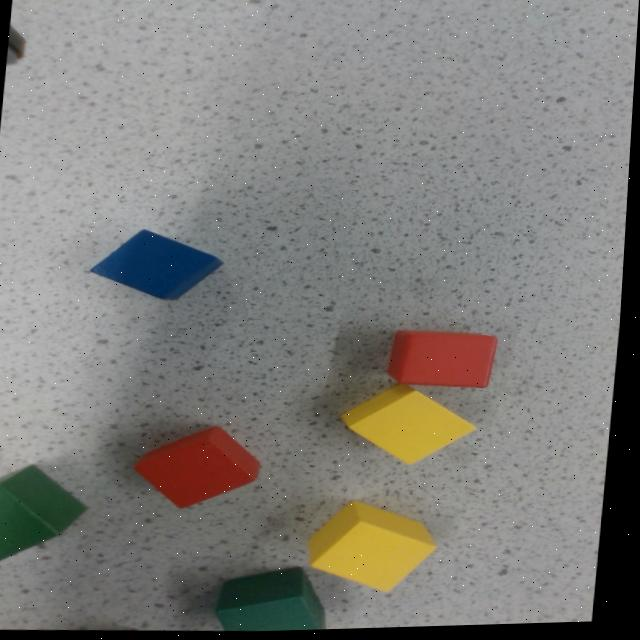blue_cube: (89, 216, 225, 317)
green_cube: (0, 449, 98, 563), (219, 567, 332, 634)
red_cube: (130, 413, 270, 522), (388, 331, 499, 392)
yellow_cube: (303, 488, 449, 610), (340, 365, 480, 488)
